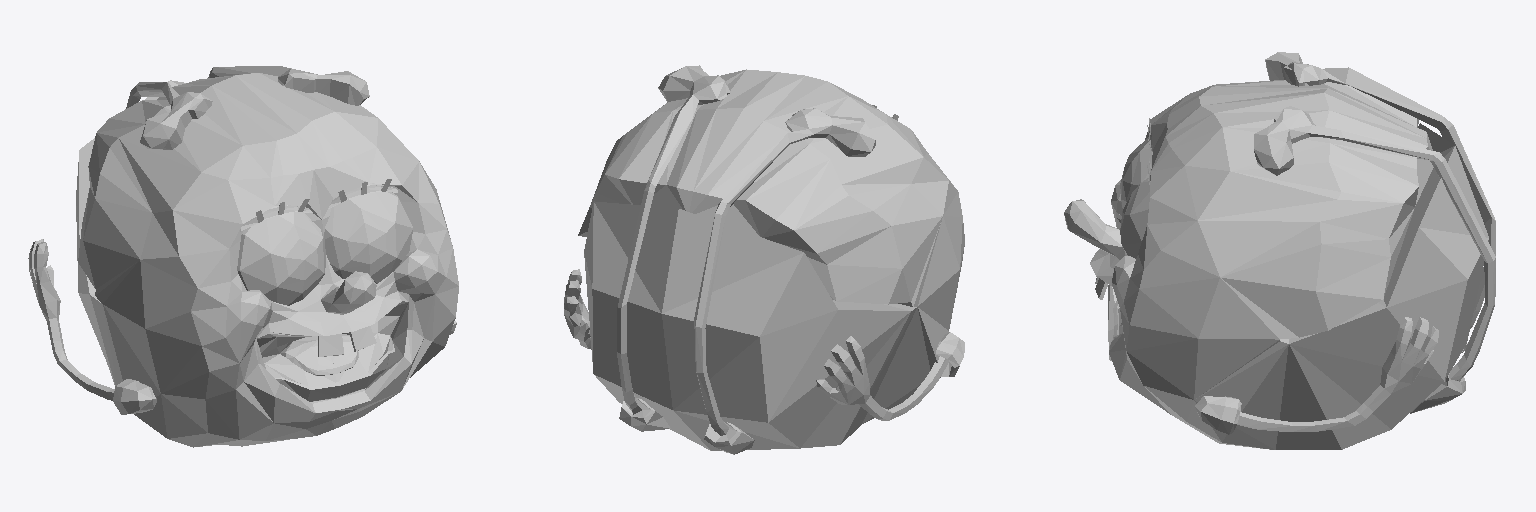
The model's file is sb_ball_bind.dff.obj.
3 renders of one model, left to right at view 1: azimuth 30°, elevation 25°; view 2: azimuth 150°, elevation 25°; view 3: azimuth 270°, elevation 25°, orthographic.
Parts seen in each view (by area): view 1: 3D_Object_1; view 2: 3D_Object_1; view 3: 3D_Object_1.
Part boxes in pixels (left/top/right/bottom): 3D_Object_1: left=28, top=66, right=458, bottom=447; 3D_Object_1: left=564, top=65, right=964, bottom=454; 3D_Object_1: left=1064, top=52, right=1495, bottom=449.
Bounding box in the file's own units: 0.7514 × 0.7313 × 0.8405.